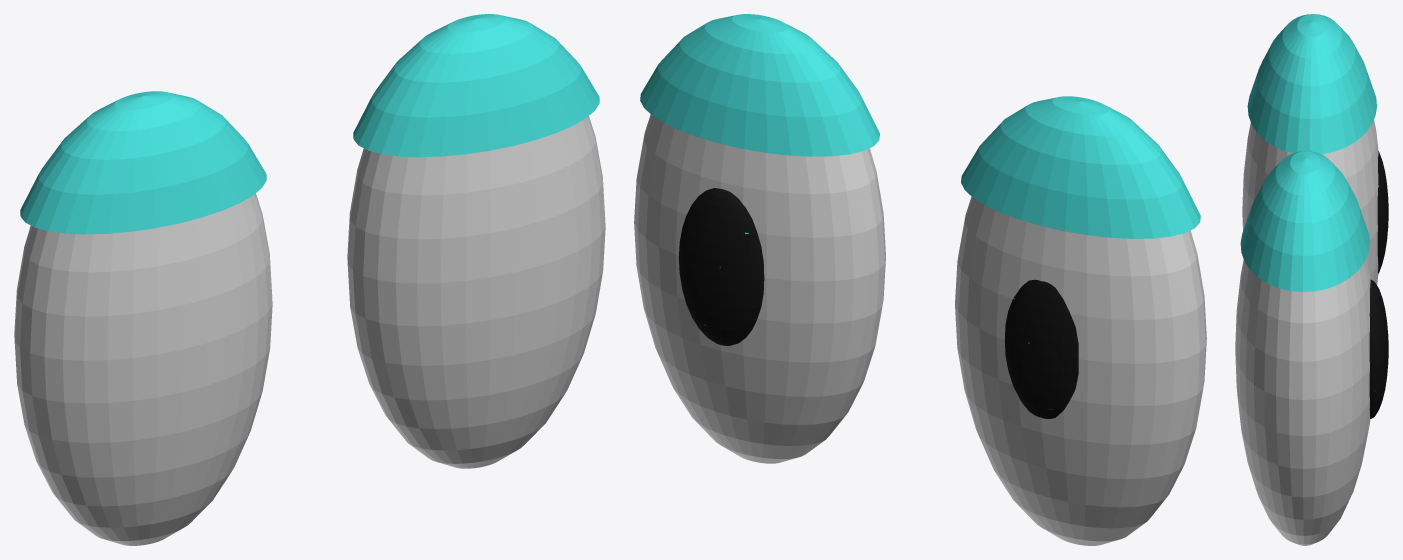
File: EyeBall.fbx
The picture shows the model from 3 angles, left to right: view 1: azimuth 30°, elevation 25°; view 2: azimuth 150°, elevation 25°; view 3: azimuth 270°, elevation 25°; orthographic projection. The views are drawn at different scales.
Parts seen in each view (by area): view 1: 0, 1; view 2: 0, 1, 2; view 3: 0, 1, 2.
Boxes of the visible parts, box(x1,y1,x2,y2) form: 0: box(14, 116, 605, 545); 1: box(20, 14, 599, 234); 0: box(634, 114, 1206, 545); 1: box(640, 14, 1200, 238); 2: box(678, 188, 1078, 418); 0: box(1235, 120, 1378, 545); 1: box(1240, 14, 1376, 291); 2: box(1369, 151, 1388, 418).
Bounding box in the file's own units: 0.5376 × 0.4 × 0.1461.
1 material, 1 textured.
